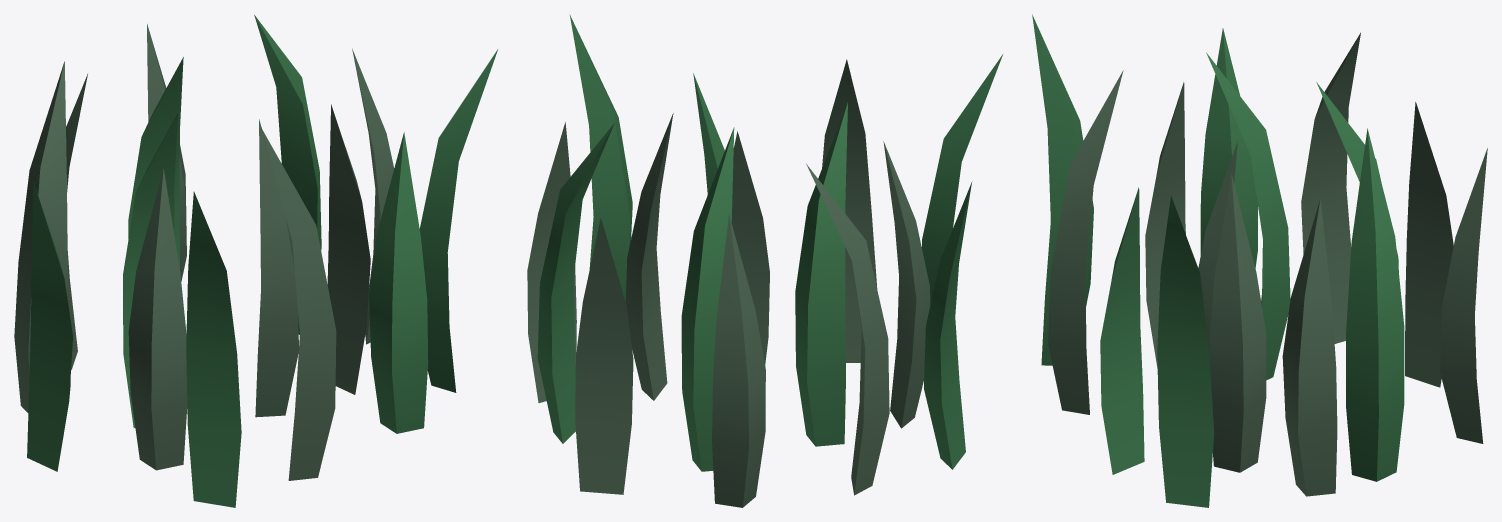
Rendered from Grass_Patch_Large.fbx.
The picture shows the model from 3 angles, left to right: view 1: azimuth 30°, elevation 25°; view 2: azimuth 150°, elevation 25°; view 3: azimuth 270°, elevation 25°; orthographic projection. The views are drawn at different scales.
Parts seen in each view (by area): view 1: Grass_Patch_Large; view 2: Grass_Patch_Large; view 3: Grass_Patch_Large.
Part boxes in pixels (<box>): Grass_Patch_Large: <box>14,14,497,507</box>; Grass_Patch_Large: <box>527,14,1002,507</box>; Grass_Patch_Large: <box>1032,14,1487,507</box>.
Bounding box in the file's own units: 103 × 74.38 × 93.03.
